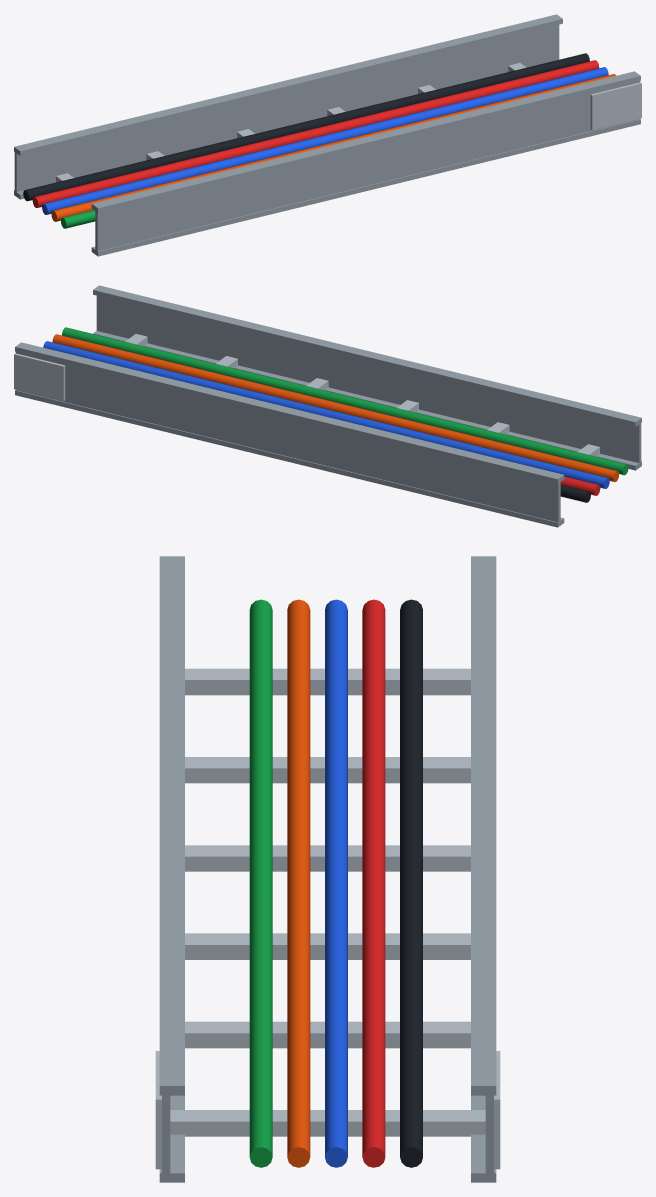
3 views of the same model, one above another, from view 1: azimuth 30°, elevation 25°; view 2: azimuth 150°, elevation 25°; view 3: azimuth 270°, elevation 25° (orthographic). The views are drawn at different scales.
Visible parts, largest first — view 1: cad-cable-tray-ladder; view 2: cad-cable-tray-ladder; view 3: cad-cable-tray-ladder.
Boxes of the visible parts, x1,y1,x2,y2 form: cad-cable-tray-ladder: [14, 14, 641, 256]; cad-cable-tray-ladder: [14, 285, 641, 527]; cad-cable-tray-ladder: [155, 556, 500, 1182].
Bounding box in the file's own units: 1.24 × 0.102 × 0.33.
